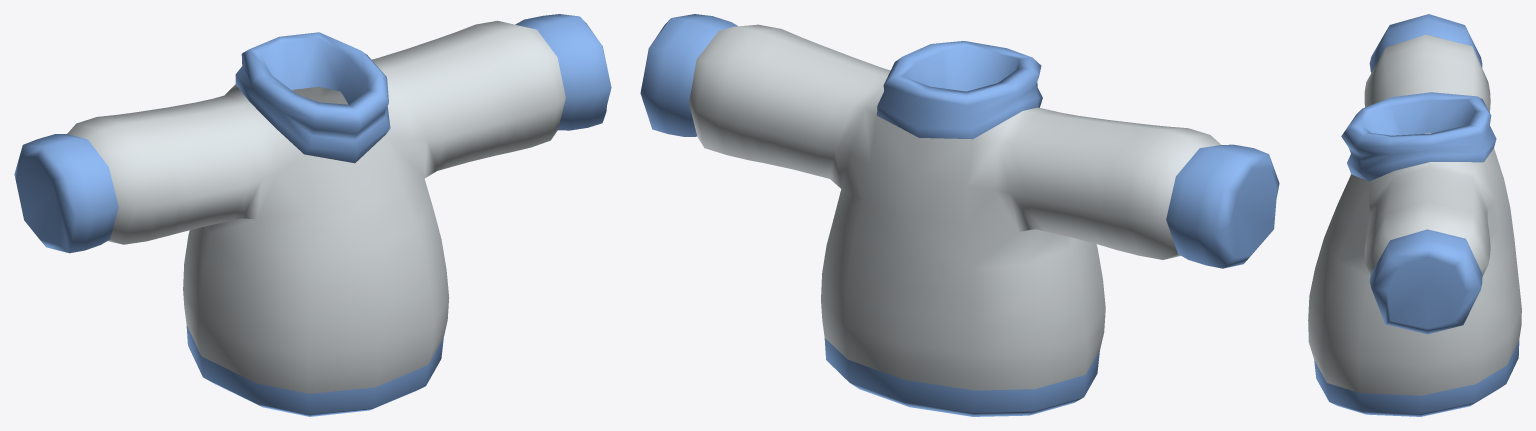
Rendered from Top_22.fbx.
3 views of the same model, side by side, from view 1: azimuth 30°, elevation 25°; view 2: azimuth 150°, elevation 25°; view 3: azimuth 270°, elevation 25° (orthographic). The views are drawn at different scales.
Parts seen in each view (by area): view 1: Top_22; view 2: Top_22; view 3: Top_22.
Part boxes in pixels (x1=…): Top_22: x1=14, y1=14, x2=611, y2=416; Top_22: x1=640, y1=14, x2=1279, y2=416; Top_22: x1=1308, y1=14, x2=1521, y2=416.
Bounding box in the file's own units: 98 × 52.42 × 37.16.
